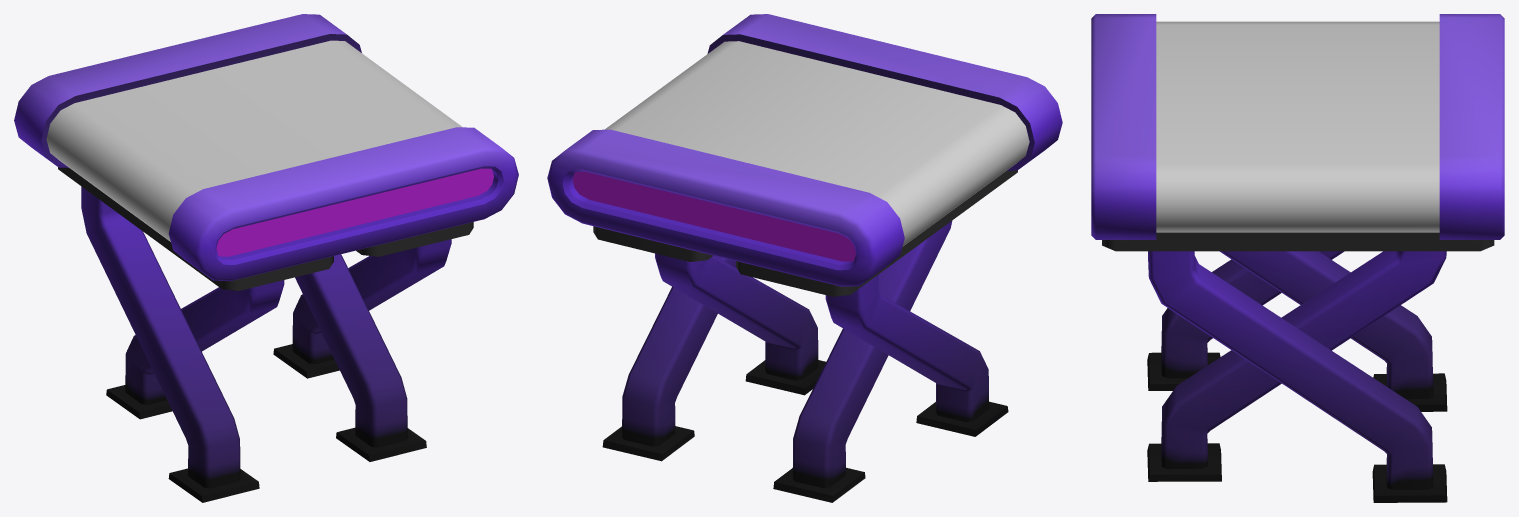
Rendered from part_Convey_2.fbx.
3 views of the same model, side by side, from view 1: azimuth 30°, elevation 25°; view 2: azimuth 150°, elevation 25°; view 3: azimuth 270°, elevation 25° (orthographic). The views are drawn at different scales.
Parts seen in each view (by area): view 1: mesh_Convey_Frame, mesh_Convey_Belt; view 2: mesh_Convey_Frame, mesh_Convey_Belt; view 3: mesh_Convey_Frame, mesh_Convey_Belt.
Boxes of the visible parts, x1=… form: mesh_Convey_Frame: x1=14, y1=14, x2=518, y2=502; mesh_Convey_Belt: x1=46, y1=40, x2=462, y2=241; mesh_Convey_Frame: x1=547, y1=14, x2=1062, y2=502; mesh_Convey_Belt: x1=605, y1=41, x2=1029, y2=246; mesh_Convey_Frame: x1=1091, y1=14, x2=1504, y2=502; mesh_Convey_Belt: x1=1156, y1=21, x2=1439, y2=232.
Size of the model in its own units: 99.79 by 91.46 by 99.43.
